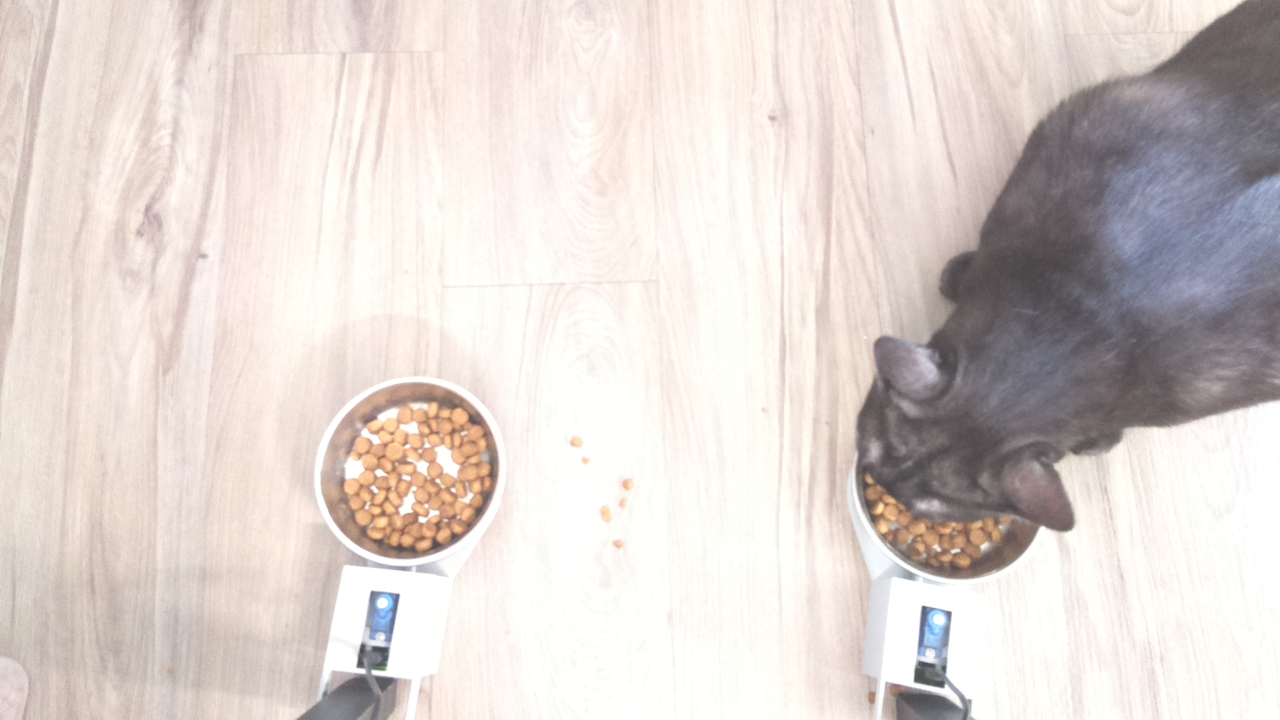open_bowl: (313, 372, 504, 566)
saki_eating: (841, 296, 1112, 596)
